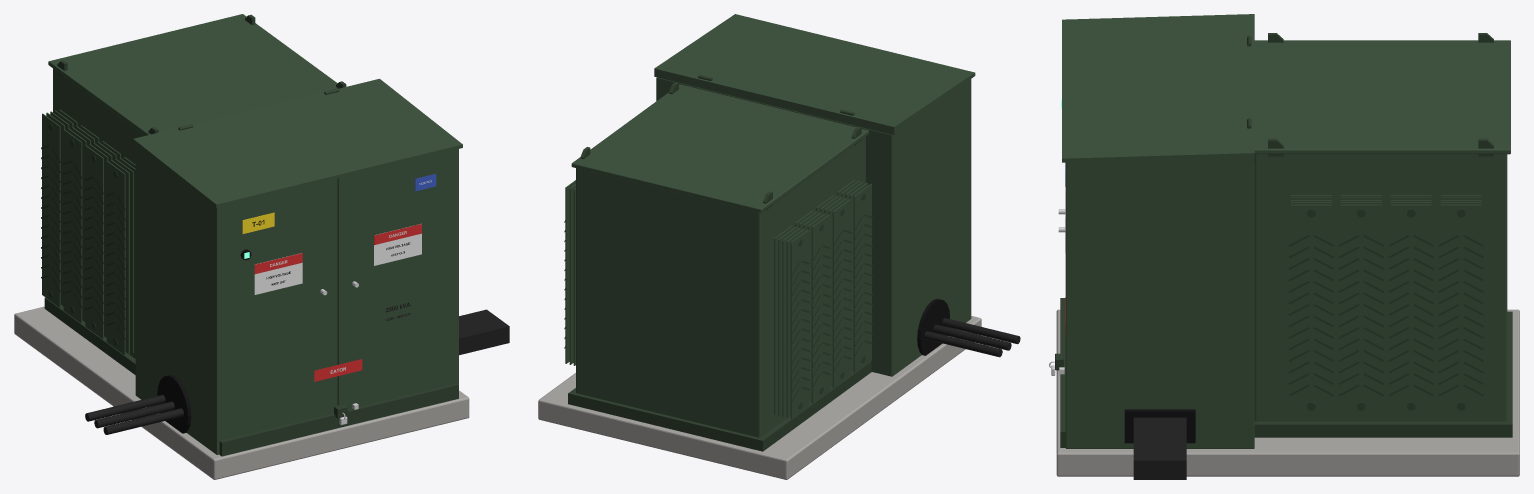
File: plant_04_transformer.glb
The picture shows the model from 3 angles, left to right: view 1: azimuth 30°, elevation 25°; view 2: azimuth 150°, elevation 25°; view 3: azimuth 270°, elevation 25°; orthographic projection. The views are drawn at different scales.
Parts seen in each view (by area): view 1: TX_Cabinet, TX_CabinetRoof, TX_TankCover, TX_RadiatorPlates, TX_Pad, TX_DoorSill, TX_Tank, TX_RadiatorChevrons_L, FLOW_power_lv_out, TX_TankBase, TX_MV_ConduitHub, TX_Label_Danger_-0 (+5 smaller); view 2: TX_Tank, TX_Cabinet, TX_TankCover, TX_CabinetRoof, TX_RadiatorPlates, TX_Pad, TX_TankBase, TX_RadiatorChevrons_L, TX_MV_ConduitHub, FLOW_power_mv_in_1, FLOW_power_mv_in_0, FLOW_power_mv_in_2; view 3: TX_Cabinet, TX_RadiatorPlates, TX_Tank, TX_TankCover, TX_CabinetRoof, TX_Pad, TX_RadiatorChevrons_R, TX_TankBase, FLOW_power_lv_out, TX_LV_ConduitHub, TX_DoorSill, TX_RadiatorHeaders.
Part boxes in pixels (bbox=[...]): TX_Cabinet: bbox=[135, 149, 458, 454]; TX_CabinetRoof: bbox=[133, 78, 462, 207]; TX_TankCover: bbox=[48, 14, 337, 135]; TX_RadiatorPlates: bbox=[42, 109, 135, 355]; TX_Pad: bbox=[14, 306, 469, 479]; TX_DoorSill: bbox=[219, 383, 458, 456]; TX_Tank: bbox=[53, 68, 144, 358]; TX_RadiatorChevrons_L: bbox=[41, 145, 125, 339]; FLOW_power_lv_out: bbox=[459, 309, 509, 355]; TX_TankBase: bbox=[44, 297, 135, 374]; TX_MV_ConduitHub: bbox=[157, 375, 191, 433]; TX_Label_Danger_-0: bbox=[254, 253, 302, 294]; TX_Tank: bbox=[576, 136, 865, 437]; TX_Cabinet: bbox=[656, 77, 971, 376]; TX_TankCover: bbox=[571, 84, 868, 212]; TX_CabinetRoof: bbox=[654, 14, 975, 134]; TX_RadiatorPlates: bbox=[565, 179, 871, 418]; TX_Pad: bbox=[538, 316, 981, 479]; TX_TankBase: bbox=[568, 361, 871, 451]; TX_RadiatorChevrons_L: bbox=[791, 214, 872, 403]; TX_MV_ConduitHub: bbox=[917, 298, 949, 355]; FLOW_power_mv_in_1: bbox=[933, 324, 1011, 350]; FLOW_power_mv_in_0: bbox=[942, 318, 1020, 344]; FLOW_power_mv_in_2: bbox=[924, 331, 1002, 357]; TX_Cabinet: bbox=[1065, 162, 1254, 448]; TX_RadiatorPlates: bbox=[1291, 195, 1481, 414]; TX_Tank: bbox=[1254, 154, 1507, 421]; TX_TankCover: bbox=[1254, 40, 1510, 154]; TX_CabinetRoof: bbox=[1062, 14, 1254, 162]; TX_Pad: bbox=[1056, 309, 1519, 476]; TX_RadiatorChevrons_R: bbox=[1288, 235, 1483, 396]; TX_TankBase: bbox=[1254, 311, 1512, 437]; FLOW_power_lv_out: bbox=[1133, 417, 1186, 479]; TX_LV_ConduitHub: bbox=[1124, 409, 1195, 443]; TX_DoorSill: bbox=[1060, 298, 1065, 447]; TX_RadiatorHeaders: bbox=[1307, 209, 1465, 410].
Bounding box in the file's own units: 3.03 × 2.02 × 2.66.
